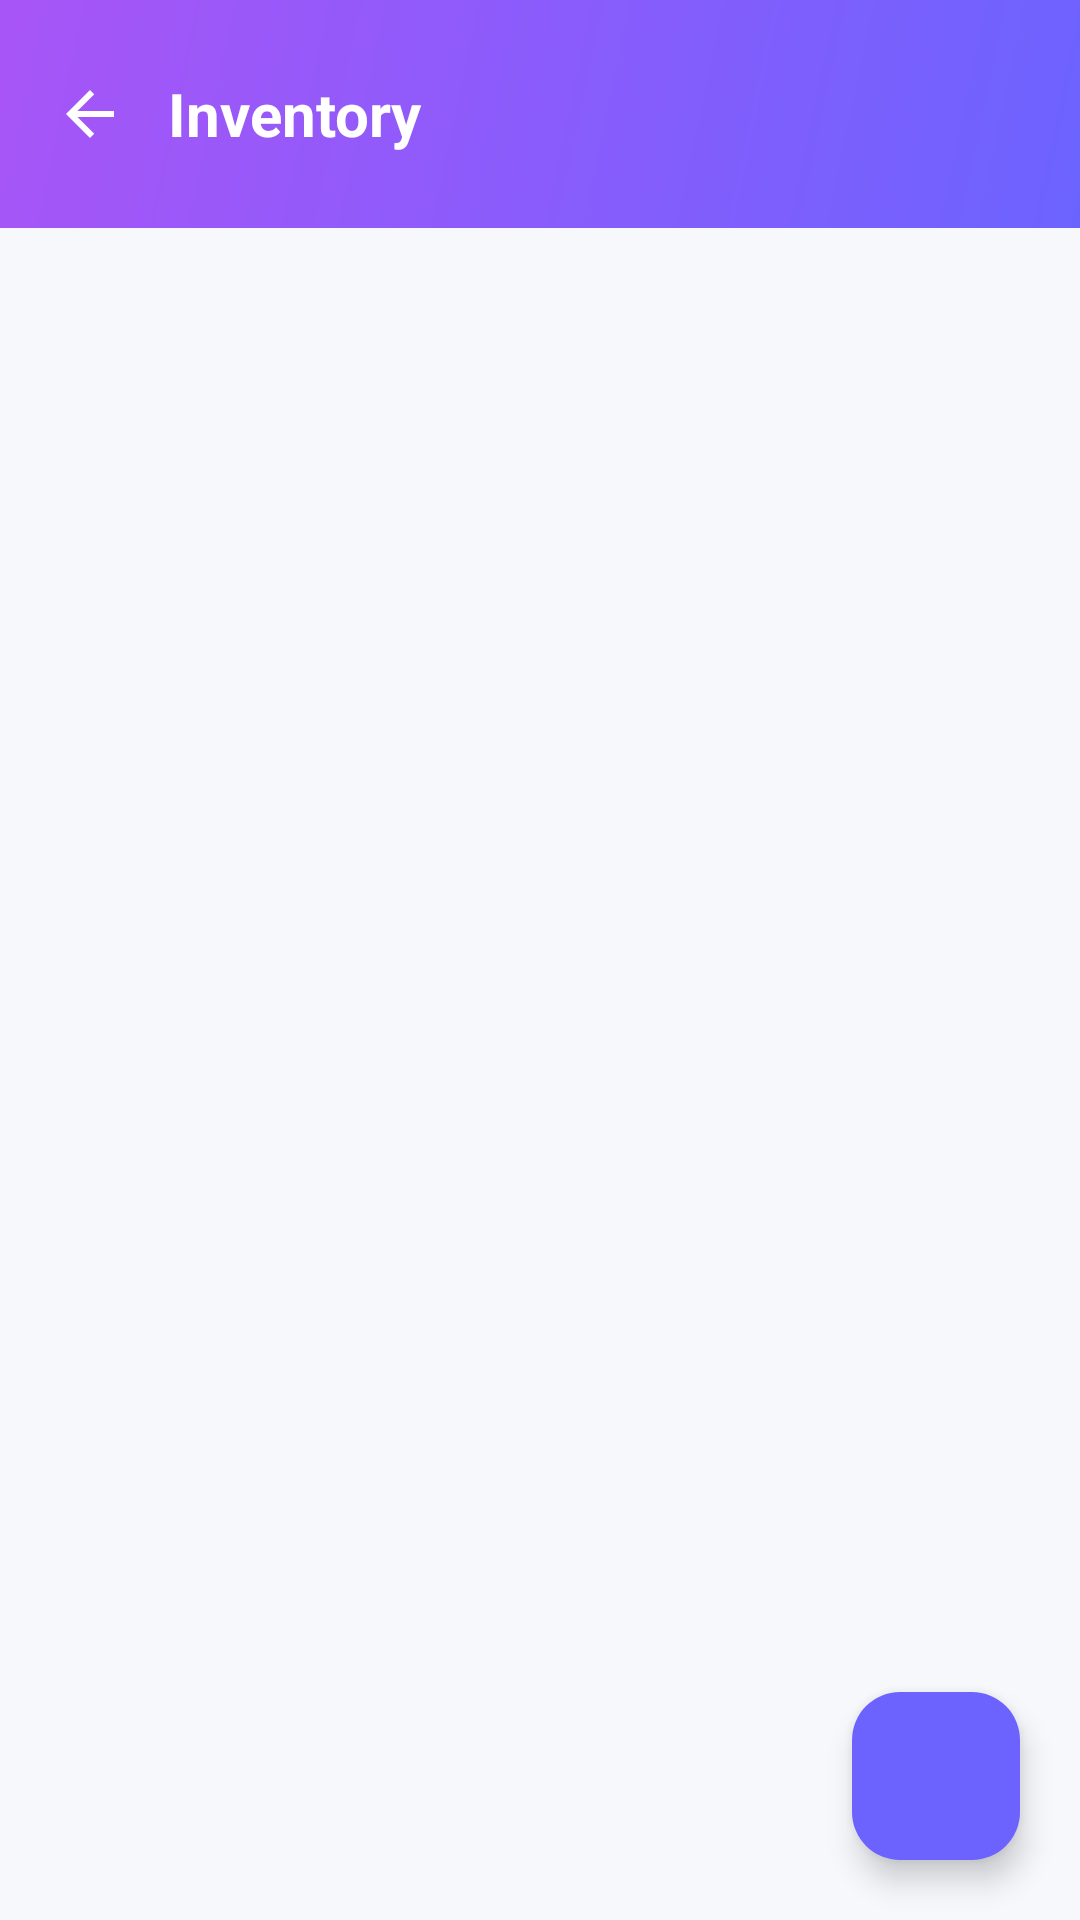

Named icons in this screenshot (1080 x 1920) and their bounding boxes, [x1=x1, y1=y1, x2=x2, y2=y2]:
Go back: [x1=66, y1=90, x2=114, y2=138]
